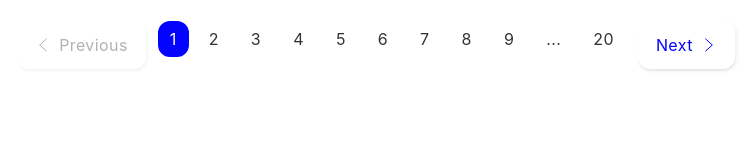
<Pagination /> › with surroundingPageCount
Click the link "6" at x=383, y=39, box [366, 21, 400, 57]
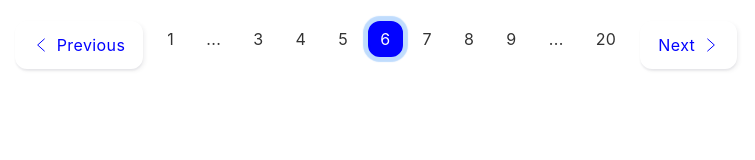
Expected: the link with test id "pagination-link" reads "3", [241, 21, 276, 57]
Expected: the 1st button with test id "pagination-link" reads "...", [206, 29, 221, 49]
